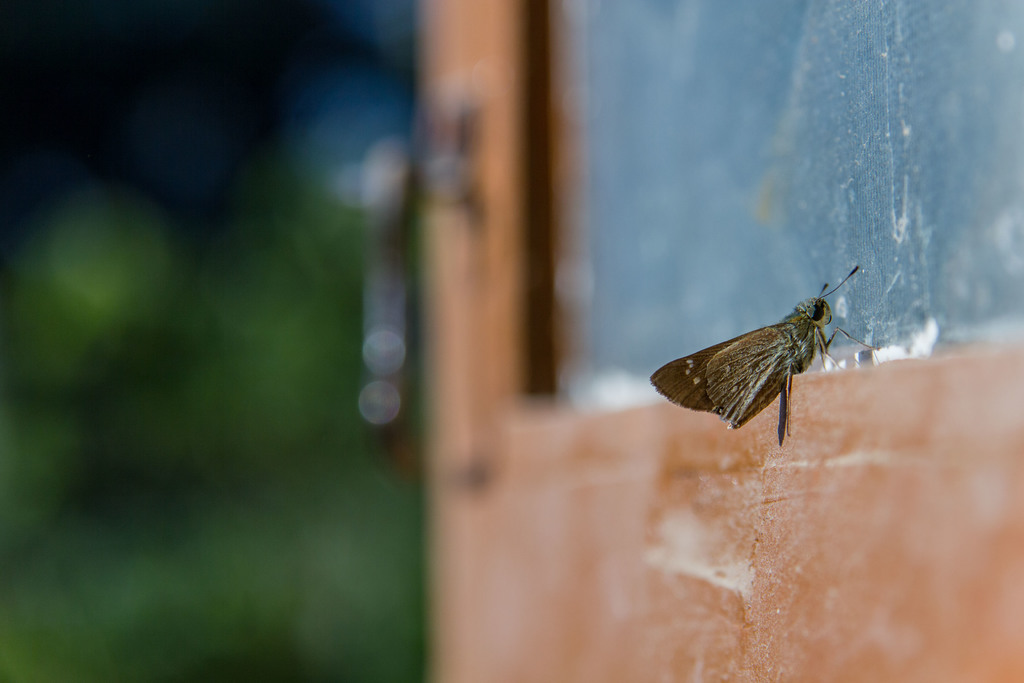Butterfly: (635, 251, 879, 444)
